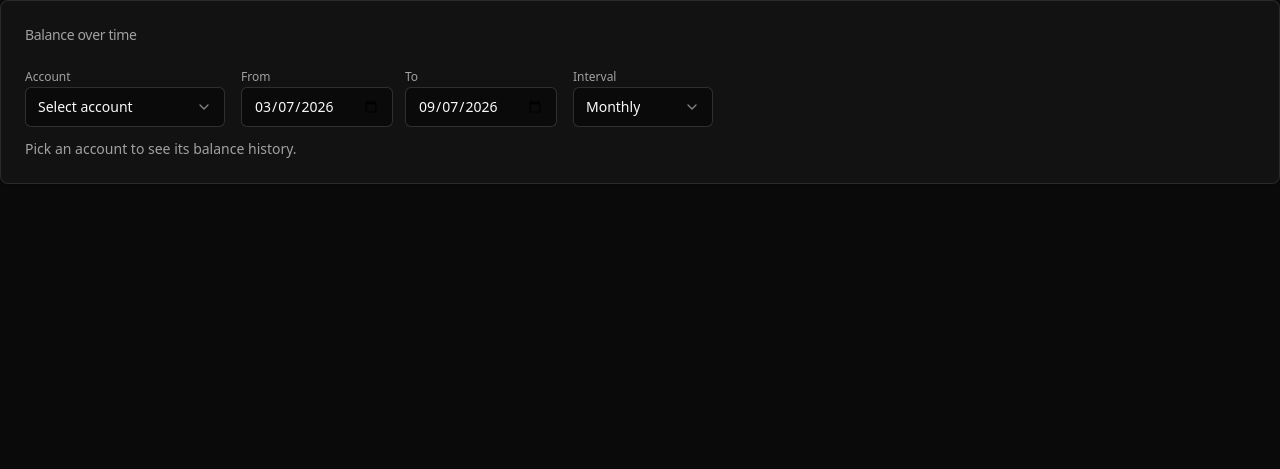
Test case: BalanceOverTimeSection › renders only the native line when the selected account currency is MDL
Click the dropdown with test id "balance-account".
click(125, 107)  # box left=25, top=87, right=225, bottom=127
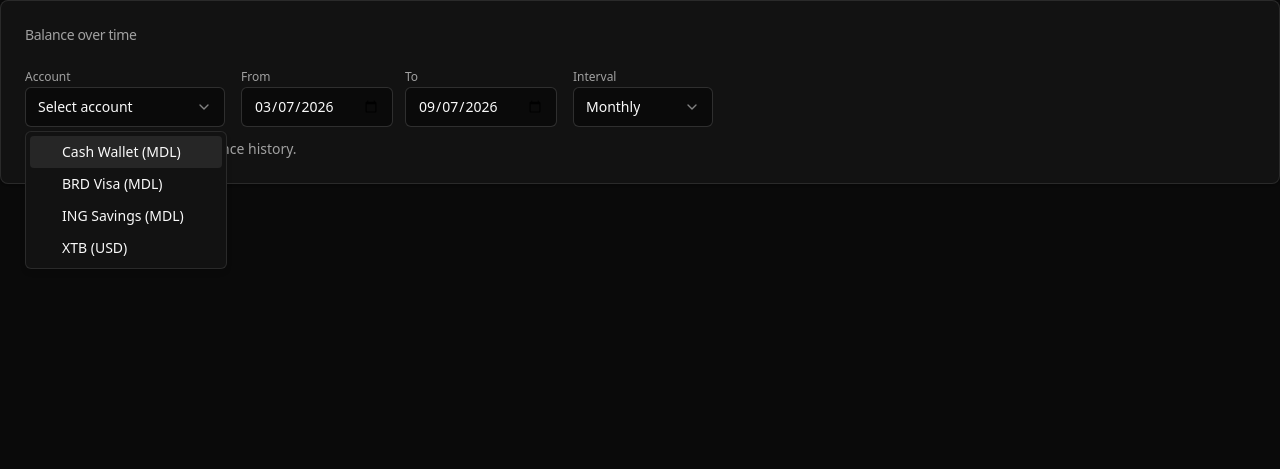
Click the option "Cash Wallet (MDL)".
click(126, 152)  # box left=30, top=136, right=222, bottom=168
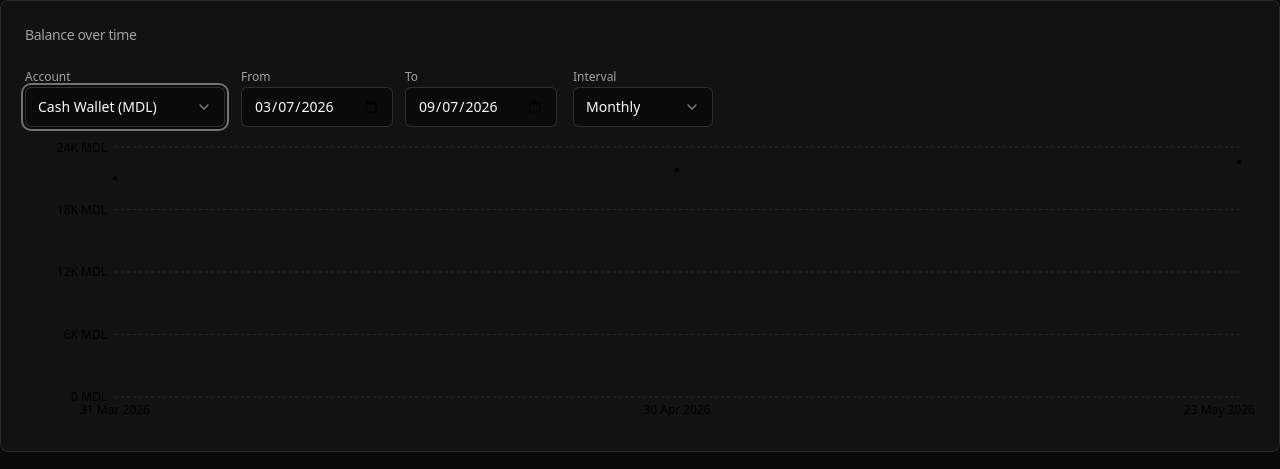
expect the picture with test id "balance-over-time-chart" is shown: met, box left=25, top=139, right=1255, bottom=427
